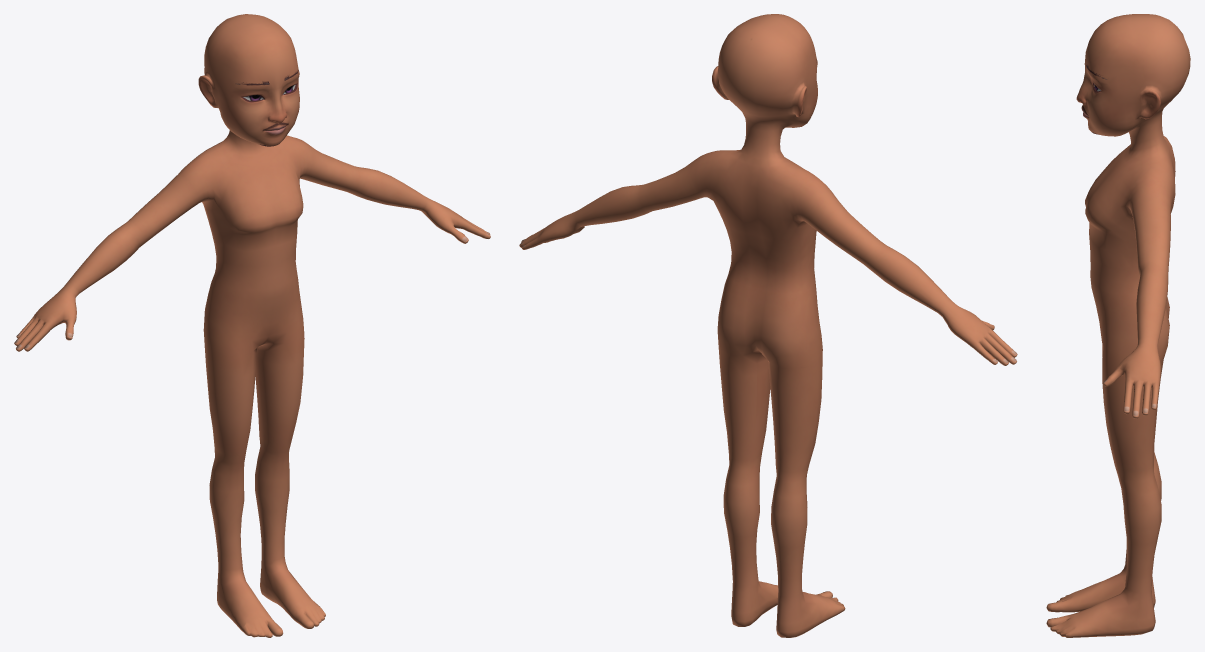
The model's file is frame_0032.glb.
3 renders of one model, left to right at view 1: azimuth 30°, elevation 25°; view 2: azimuth 150°, elevation 25°; view 3: azimuth 270°, elevation 25°, orthographic. The views are drawn at different scales.
Parts seen in each view (by area): view 1: frame_0032_head_geo; view 2: frame_0032_head_geo; view 3: frame_0032_head_geo.
Boxes of the visible parts, x1,y1,x2,y2 form: frame_0032_head_geo: (14, 14, 490, 637); frame_0032_head_geo: (519, 14, 1017, 637); frame_0032_head_geo: (1046, 14, 1190, 637).
Bounding box in the file's own units: 1.28 × 1.5 × 0.3253.
3 materials, 3 textured.
